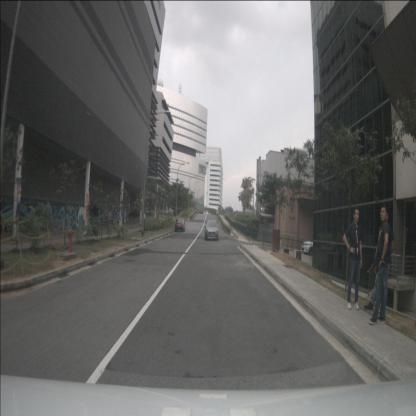human-pedestrian-adult: (364, 209, 395, 316), (368, 203, 391, 325), (343, 206, 363, 310)
vehicle-car: (302, 235, 332, 257), (204, 220, 219, 241), (175, 218, 185, 232)
